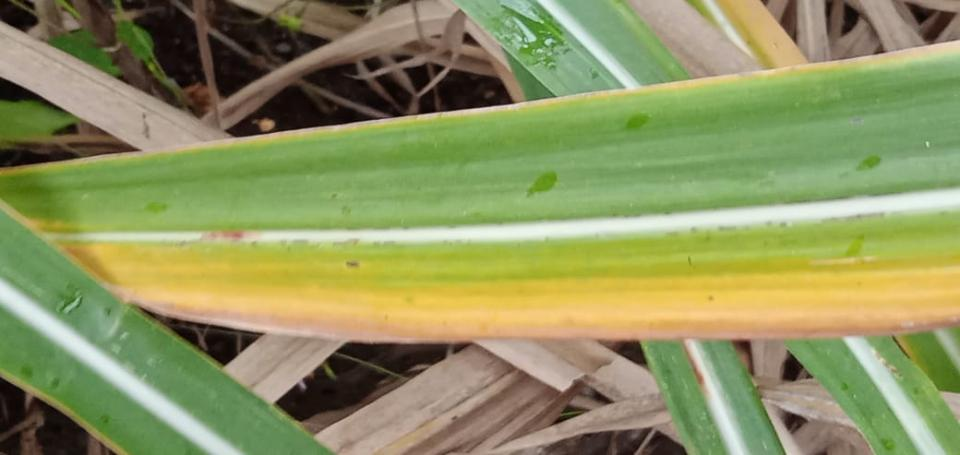RedRot: (199, 230, 253, 240)
Rust: (345, 261, 361, 267)
Yellow: (0, 41, 959, 177), (56, 241, 959, 337), (28, 218, 86, 231)
